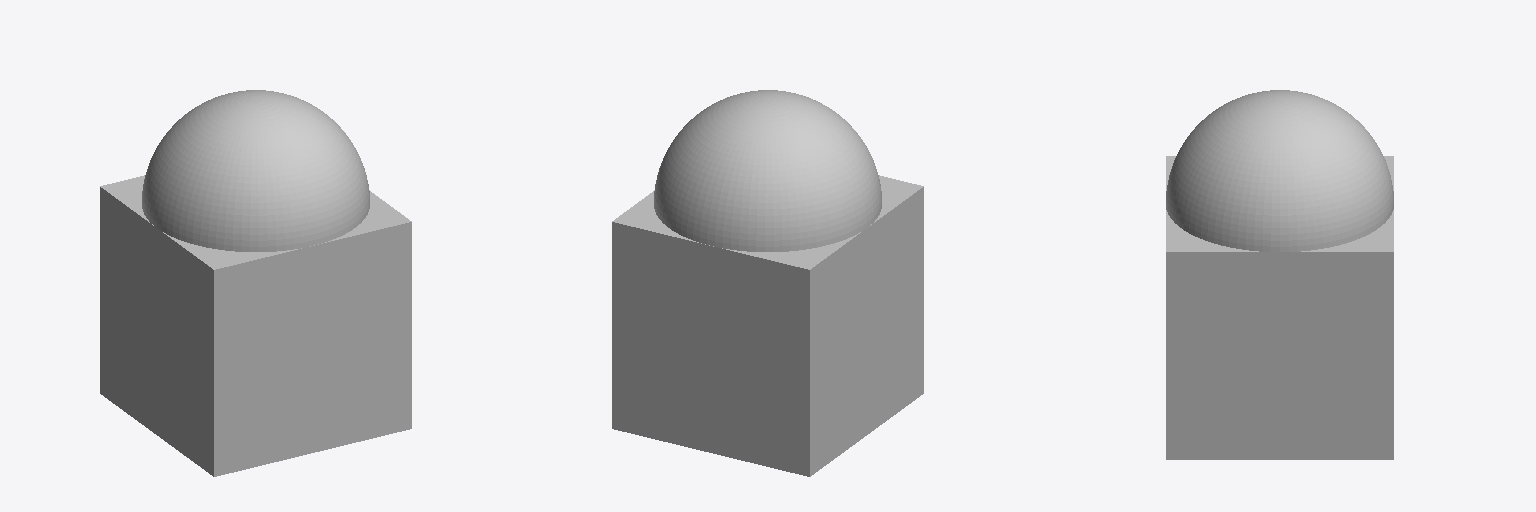
File: LaunchPad0Meta.obj
The picture shows the model from 3 angles: view 1: azimuth 30°, elevation 25°; view 2: azimuth 150°, elevation 25°; view 3: azimuth 270°, elevation 25°; orthographic projection.
Parts seen in each view (by area): view 1: Cube_Cube.001, Sphere; view 2: Cube_Cube.001, Sphere; view 3: Cube_Cube.001, Sphere.
Part boxes in pixels (left/top/right/bottom): Cube_Cube.001: left=100, top=175, right=411, bottom=476; Sphere: left=142, top=90, right=369, bottom=251; Cube_Cube.001: left=612, top=175, right=923, bottom=476; Sphere: left=654, top=90, right=881, bottom=251; Cube_Cube.001: left=1166, top=156, right=1393, bottom=459; Sphere: left=1166, top=90, right=1393, bottom=251.
Size of the model in its own units: 2 by 3 by 2.